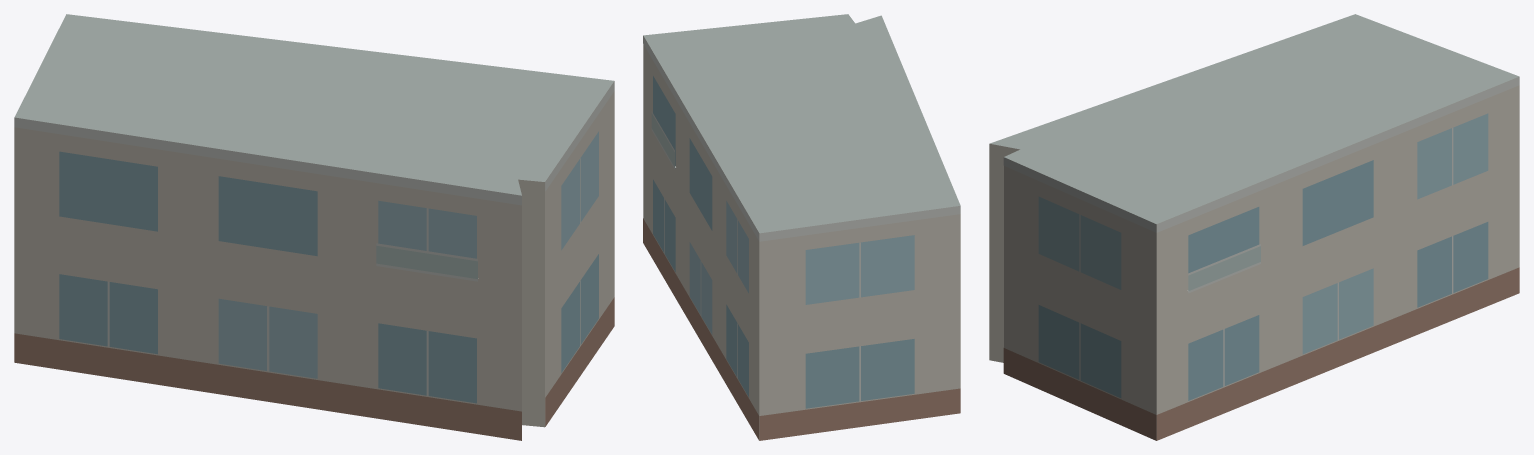
The model's file is survey-upis-32466645.glb.
3 renders of one model, left to right at view 1: azimuth 30°, elevation 25°; view 2: azimuth 150°, elevation 25°; view 3: azimuth 270°, elevation 25°, orthographic. The views are drawn at different scales.
Visible parts, largest first — view 1: survey-upis-32466645.tmp; view 2: survey-upis-32466645.tmp; view 3: survey-upis-32466645.tmp.
Part boxes in pixels (<box>): survey-upis-32466645.tmp: <box>14,14,614,440</box>; survey-upis-32466645.tmp: <box>643,14,960,440</box>; survey-upis-32466645.tmp: <box>989,14,1519,440</box>.
Size of the model in its own units: 12.71 by 6.1 by 13.54.
